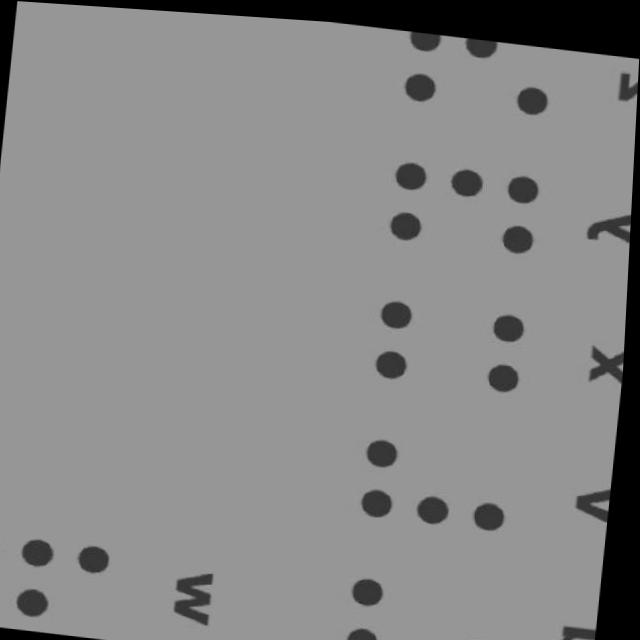braiile: (359, 276, 546, 399), (344, 419, 530, 539), (378, 141, 560, 259), (384, 24, 573, 125), (336, 554, 517, 640), (0, 520, 134, 634)
